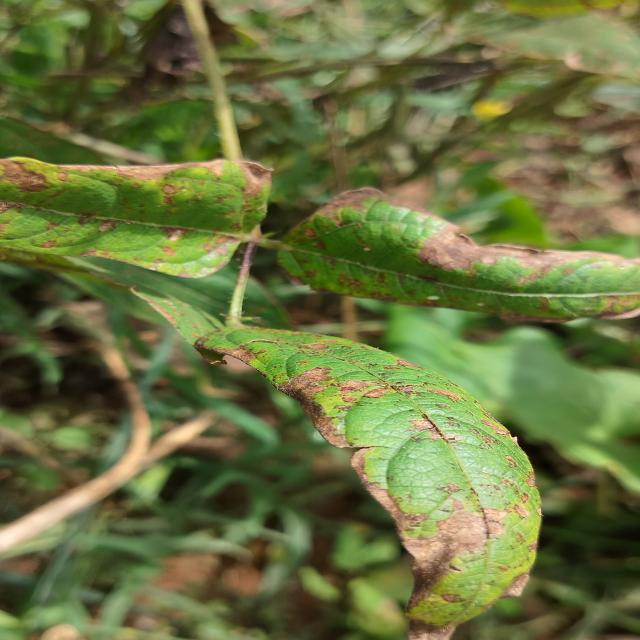Black gram_leaf spot: (190, 312, 546, 640), (281, 180, 640, 320), (0, 152, 277, 280)
